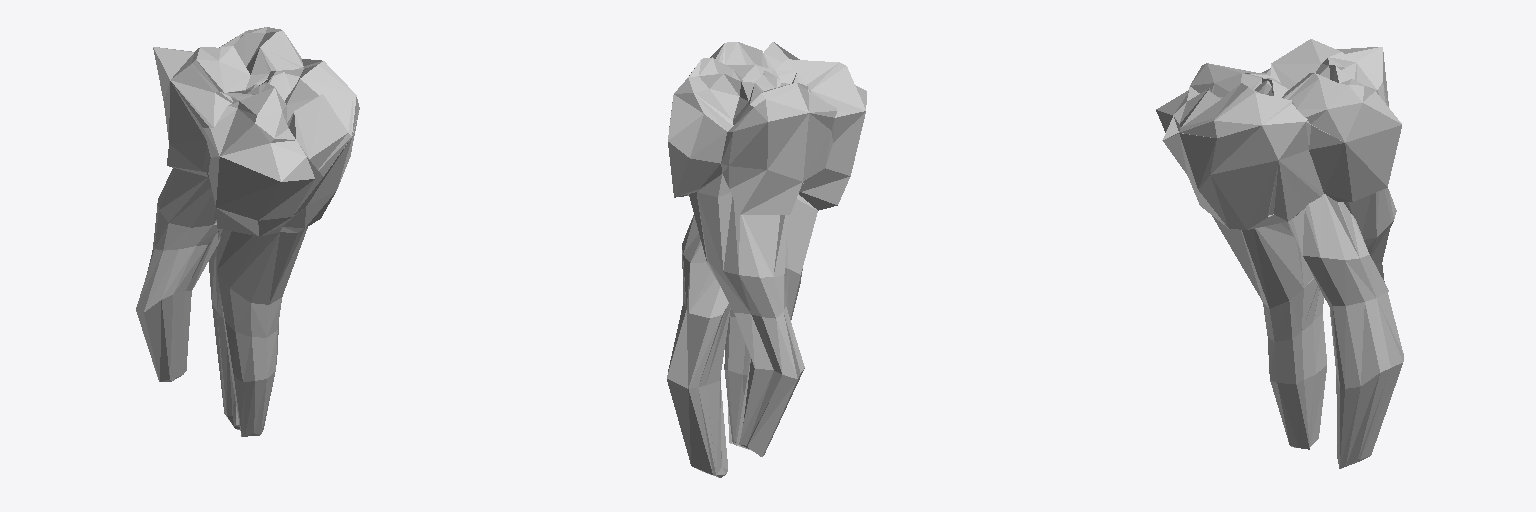
File: Lower_Molar_Left_01.obj
The picture shows the model from 3 angles: view 1: azimuth 30°, elevation 25°; view 2: azimuth 150°, elevation 25°; view 3: azimuth 270°, elevation 25°; orthographic projection.
Parts seen in each view (by area): view 1: Lower_Molar_Left_01 Lower_Teeth Teeth group1; view 2: Lower_Molar_Left_01 Lower_Teeth Teeth group1; view 3: Lower_Molar_Left_01 Lower_Teeth Teeth group1.
Part boxes in pixels (x1,y1,x2,y2): Lower_Molar_Left_01 Lower_Teeth Teeth group1: (136,27,359,436); Lower_Molar_Left_01 Lower_Teeth Teeth group1: (667,42,866,477); Lower_Molar_Left_01 Lower_Teeth Teeth group1: (1156,39,1403,468).
Bounding box in the file's own units: 0.1098 × 0.2773 × 0.1547.